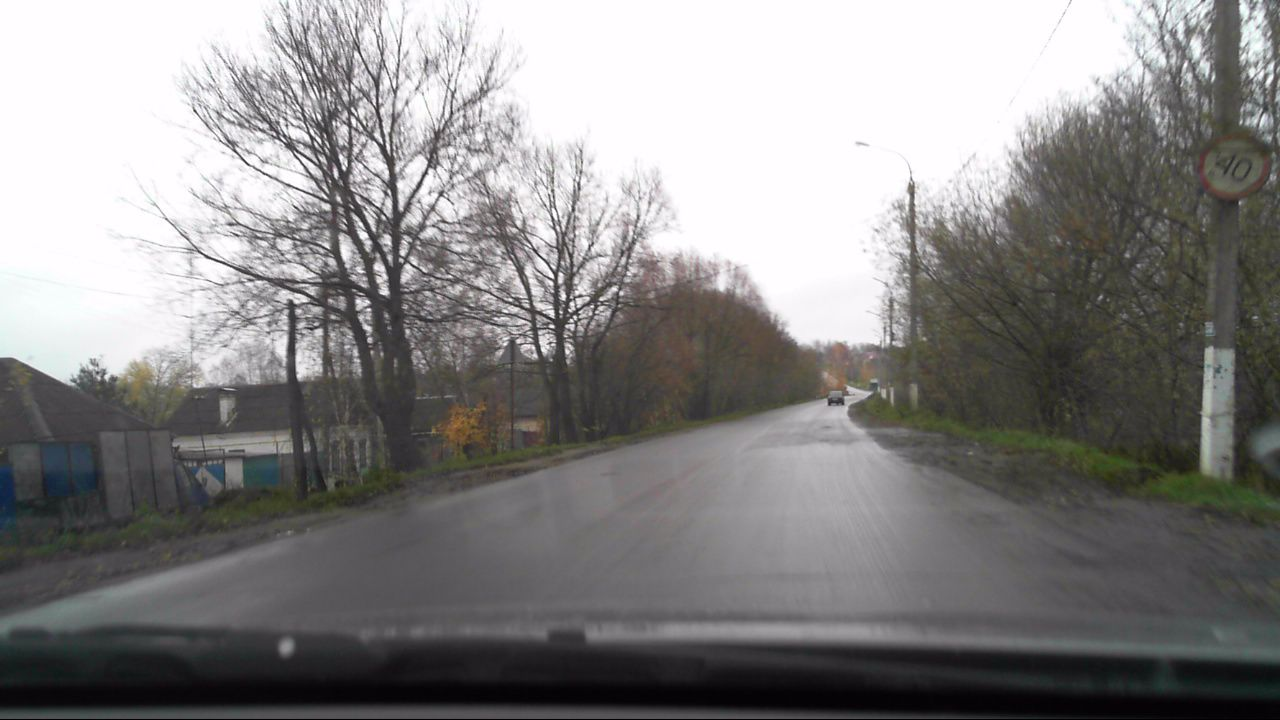speed_warning_40: (1197, 129, 1276, 200)
